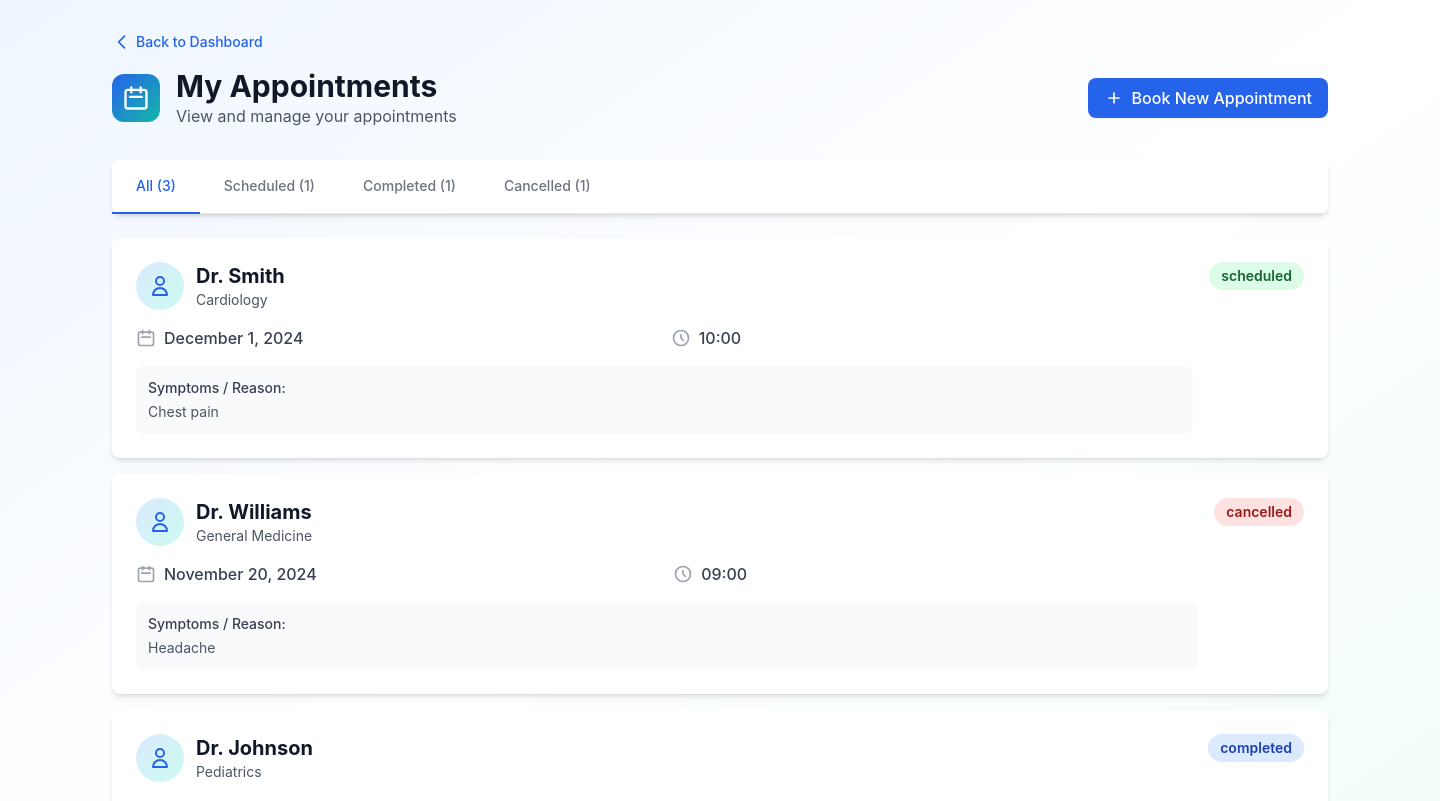
Test: PatientAppointments Component › filters appointments by status
Expected: the heading "Dr. Smith" is shown, [196,262,285,290]
# Click on "Scheduled" filter
Step 1. Click the button "Scheduled (1)" → coordinates (269, 187), box [200,160,339,214]
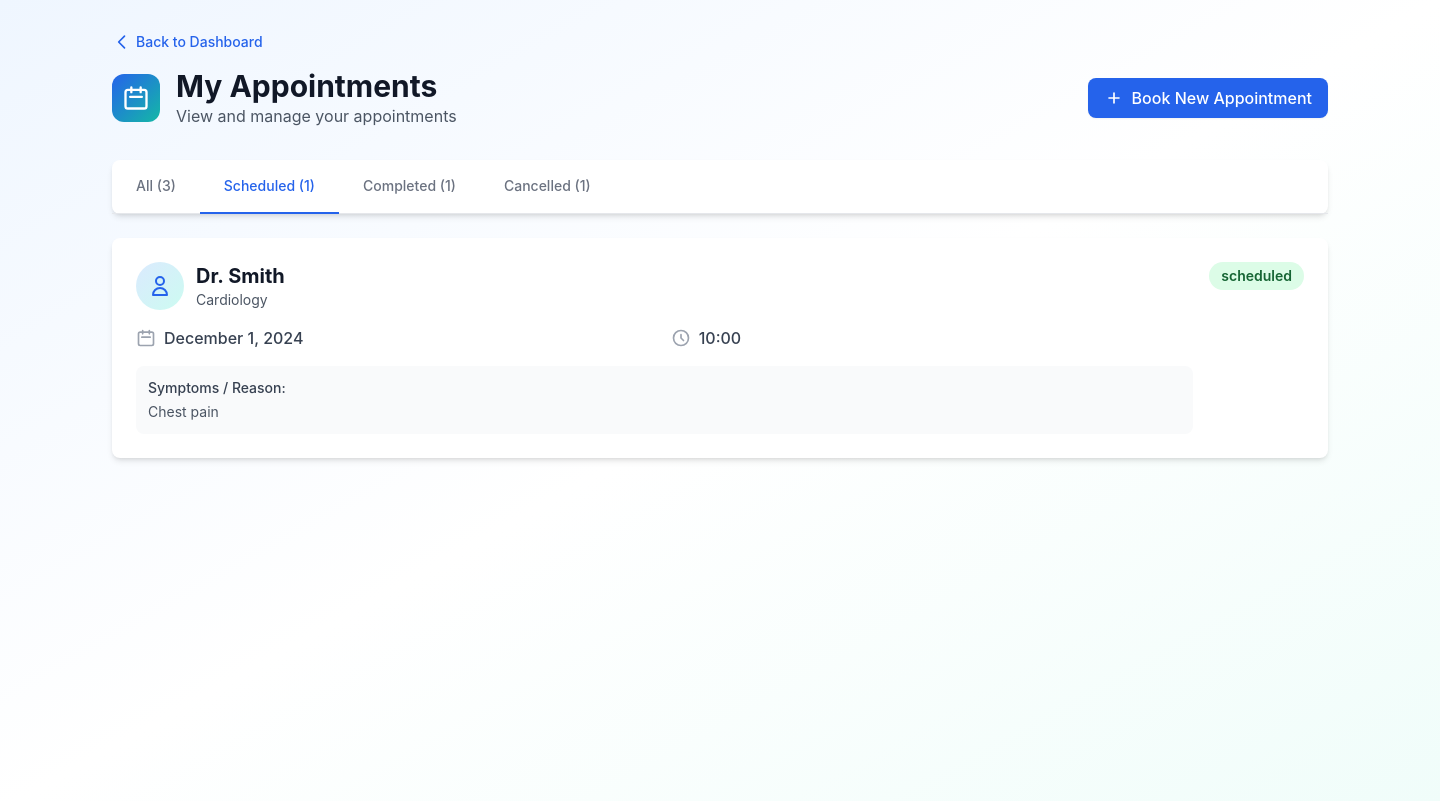
Expected: the heading "Dr. Smith" is shown, [196,262,285,290]
Expected: the heading "Dr. Johnson" is gone
# Click on "Completed" filter
Step 2. Click the button "Completed (1)" → coordinates (410, 187), box [339,160,480,214]
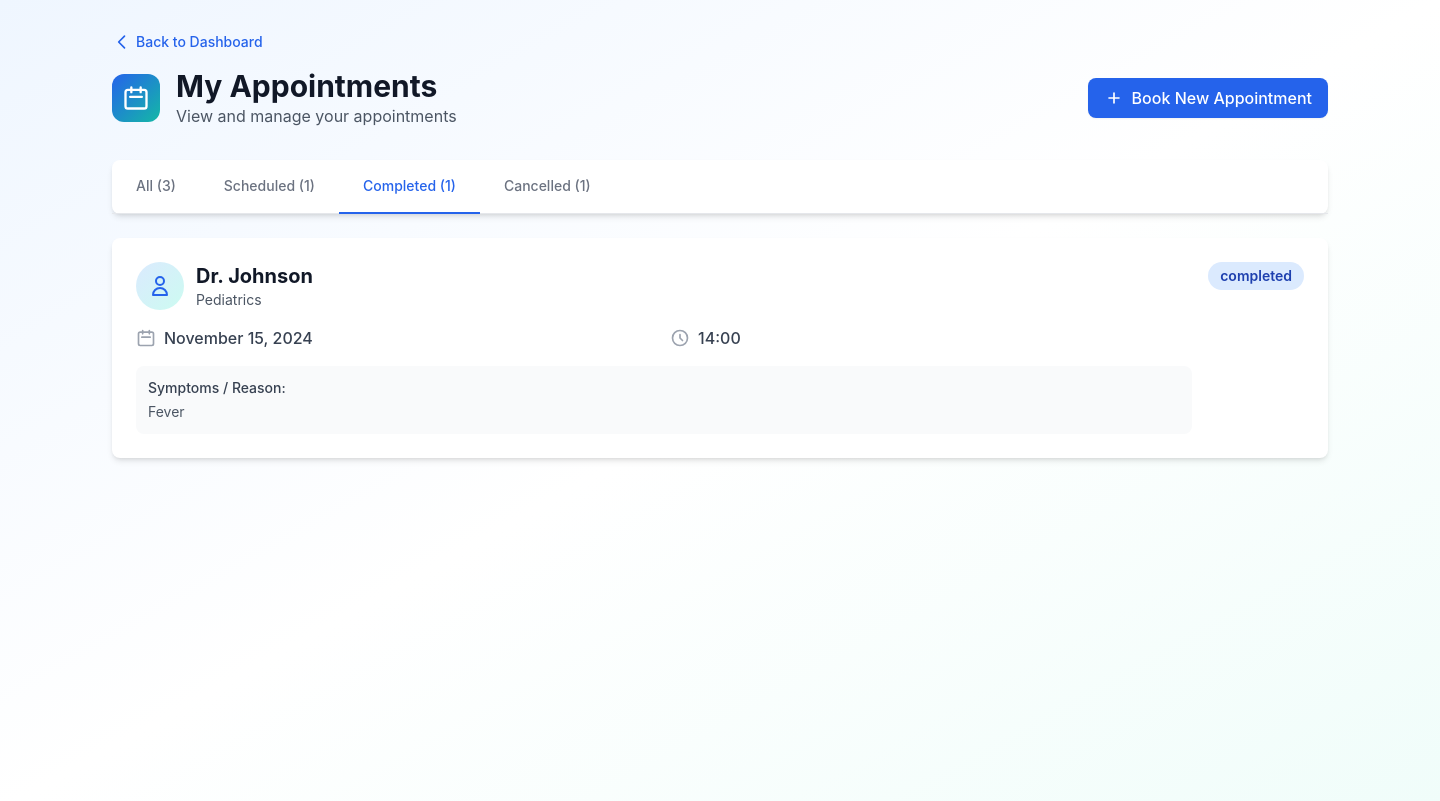
Expected: the heading "Dr. Johnson" is shown, [196,262,313,290]
Expected: the heading "Dr. Smith" is gone
